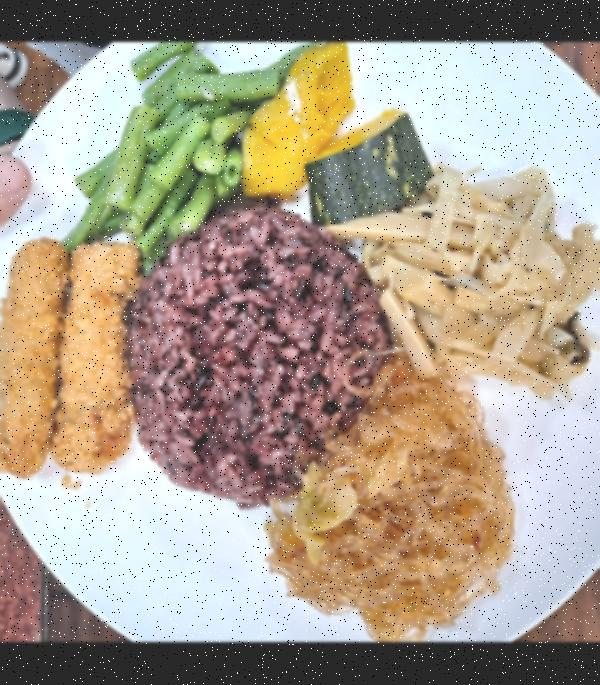fried spanish mackerel: (0, 220, 142, 506)
plate: (0, 42, 600, 635)
purple rice: (134, 214, 389, 494)
side dish: (282, 385, 520, 626), (354, 185, 600, 386), (49, 48, 260, 224), (245, 43, 433, 237)
